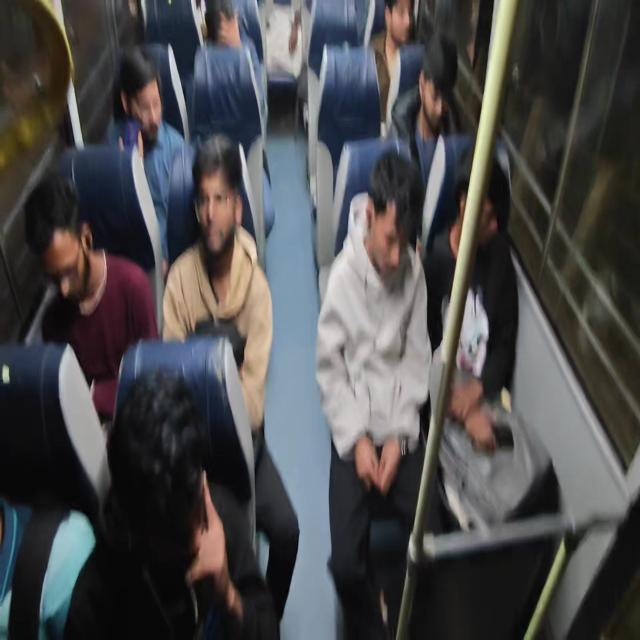person: (161, 133, 300, 633), (315, 150, 433, 638), (62, 367, 245, 638), (426, 150, 520, 531), (24, 171, 159, 425), (162, 133, 274, 439), (387, 31, 476, 252), (193, 0, 275, 238), (108, 46, 194, 269), (369, 0, 424, 137)
